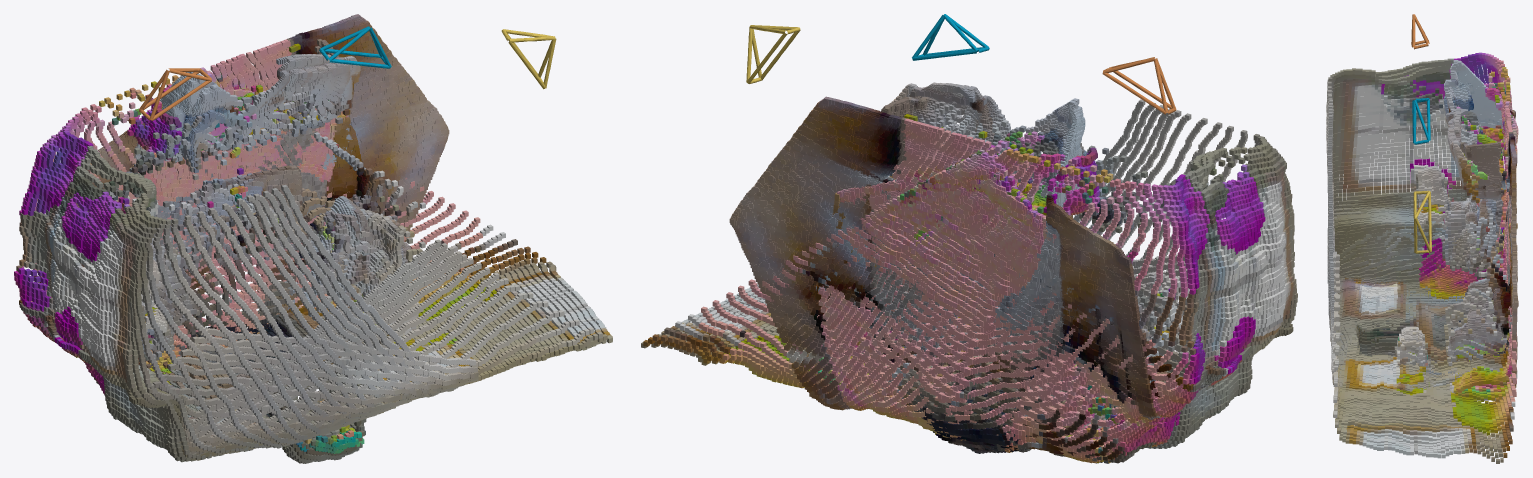
Rendered from pred-compressed.glb.
3 views of the same model, side by side, from view 1: azimuth 30°, elevation 25°; view 2: azimuth 150°, elevation 25°; view 3: azimuth 270°, elevation 25° (orthographic). The views are drawn at different scales.
Size of the model in its own units: 6.63 by 4.71 by 2.56.
